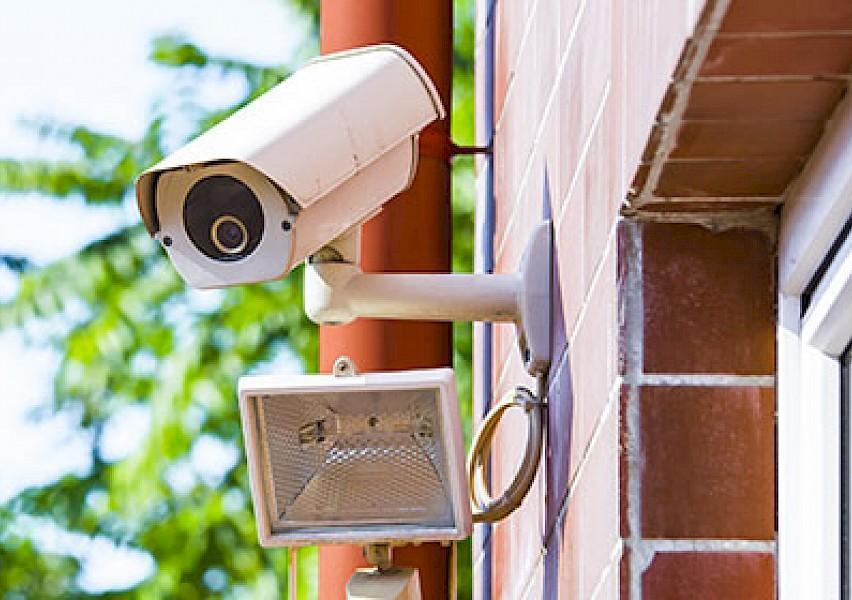CCTV: (136, 45, 552, 375)
